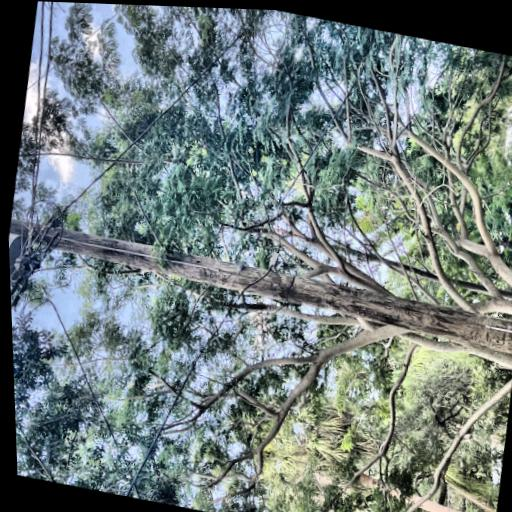pole: (34, 1, 185, 494)
transformer: (74, 48, 138, 140)
